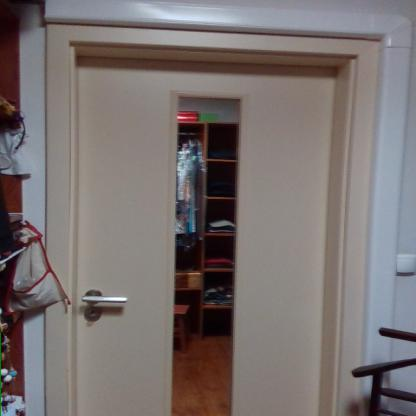door: (77, 57, 332, 415)
lever: (84, 292, 132, 309)
